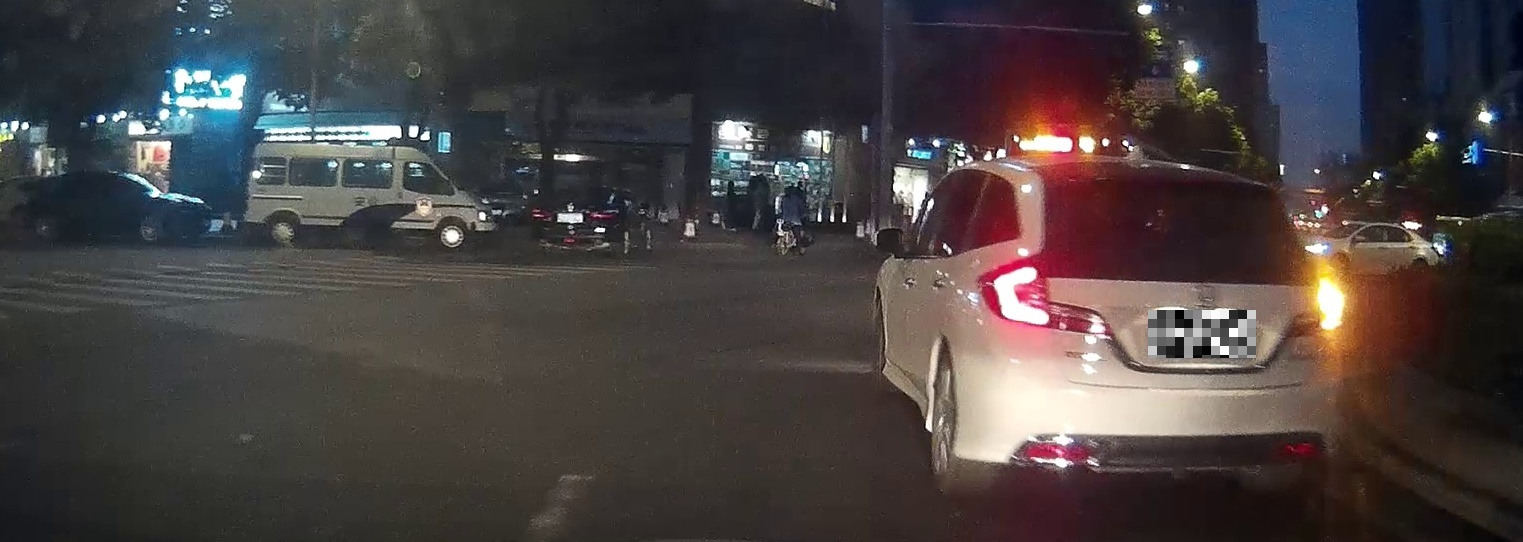L_light: (978, 254, 1113, 335)
R_light: (1288, 263, 1342, 336)
T_light: (1144, 179, 1181, 188)
night-right: (968, 154, 1344, 507)
plate_1: (1148, 310, 1256, 358)
